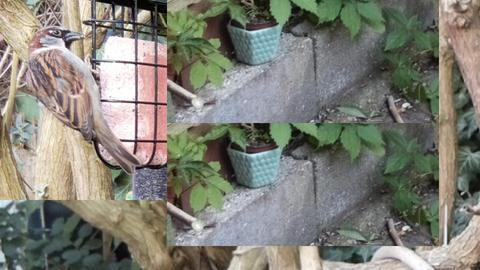sparrow: (25, 25, 142, 175)
